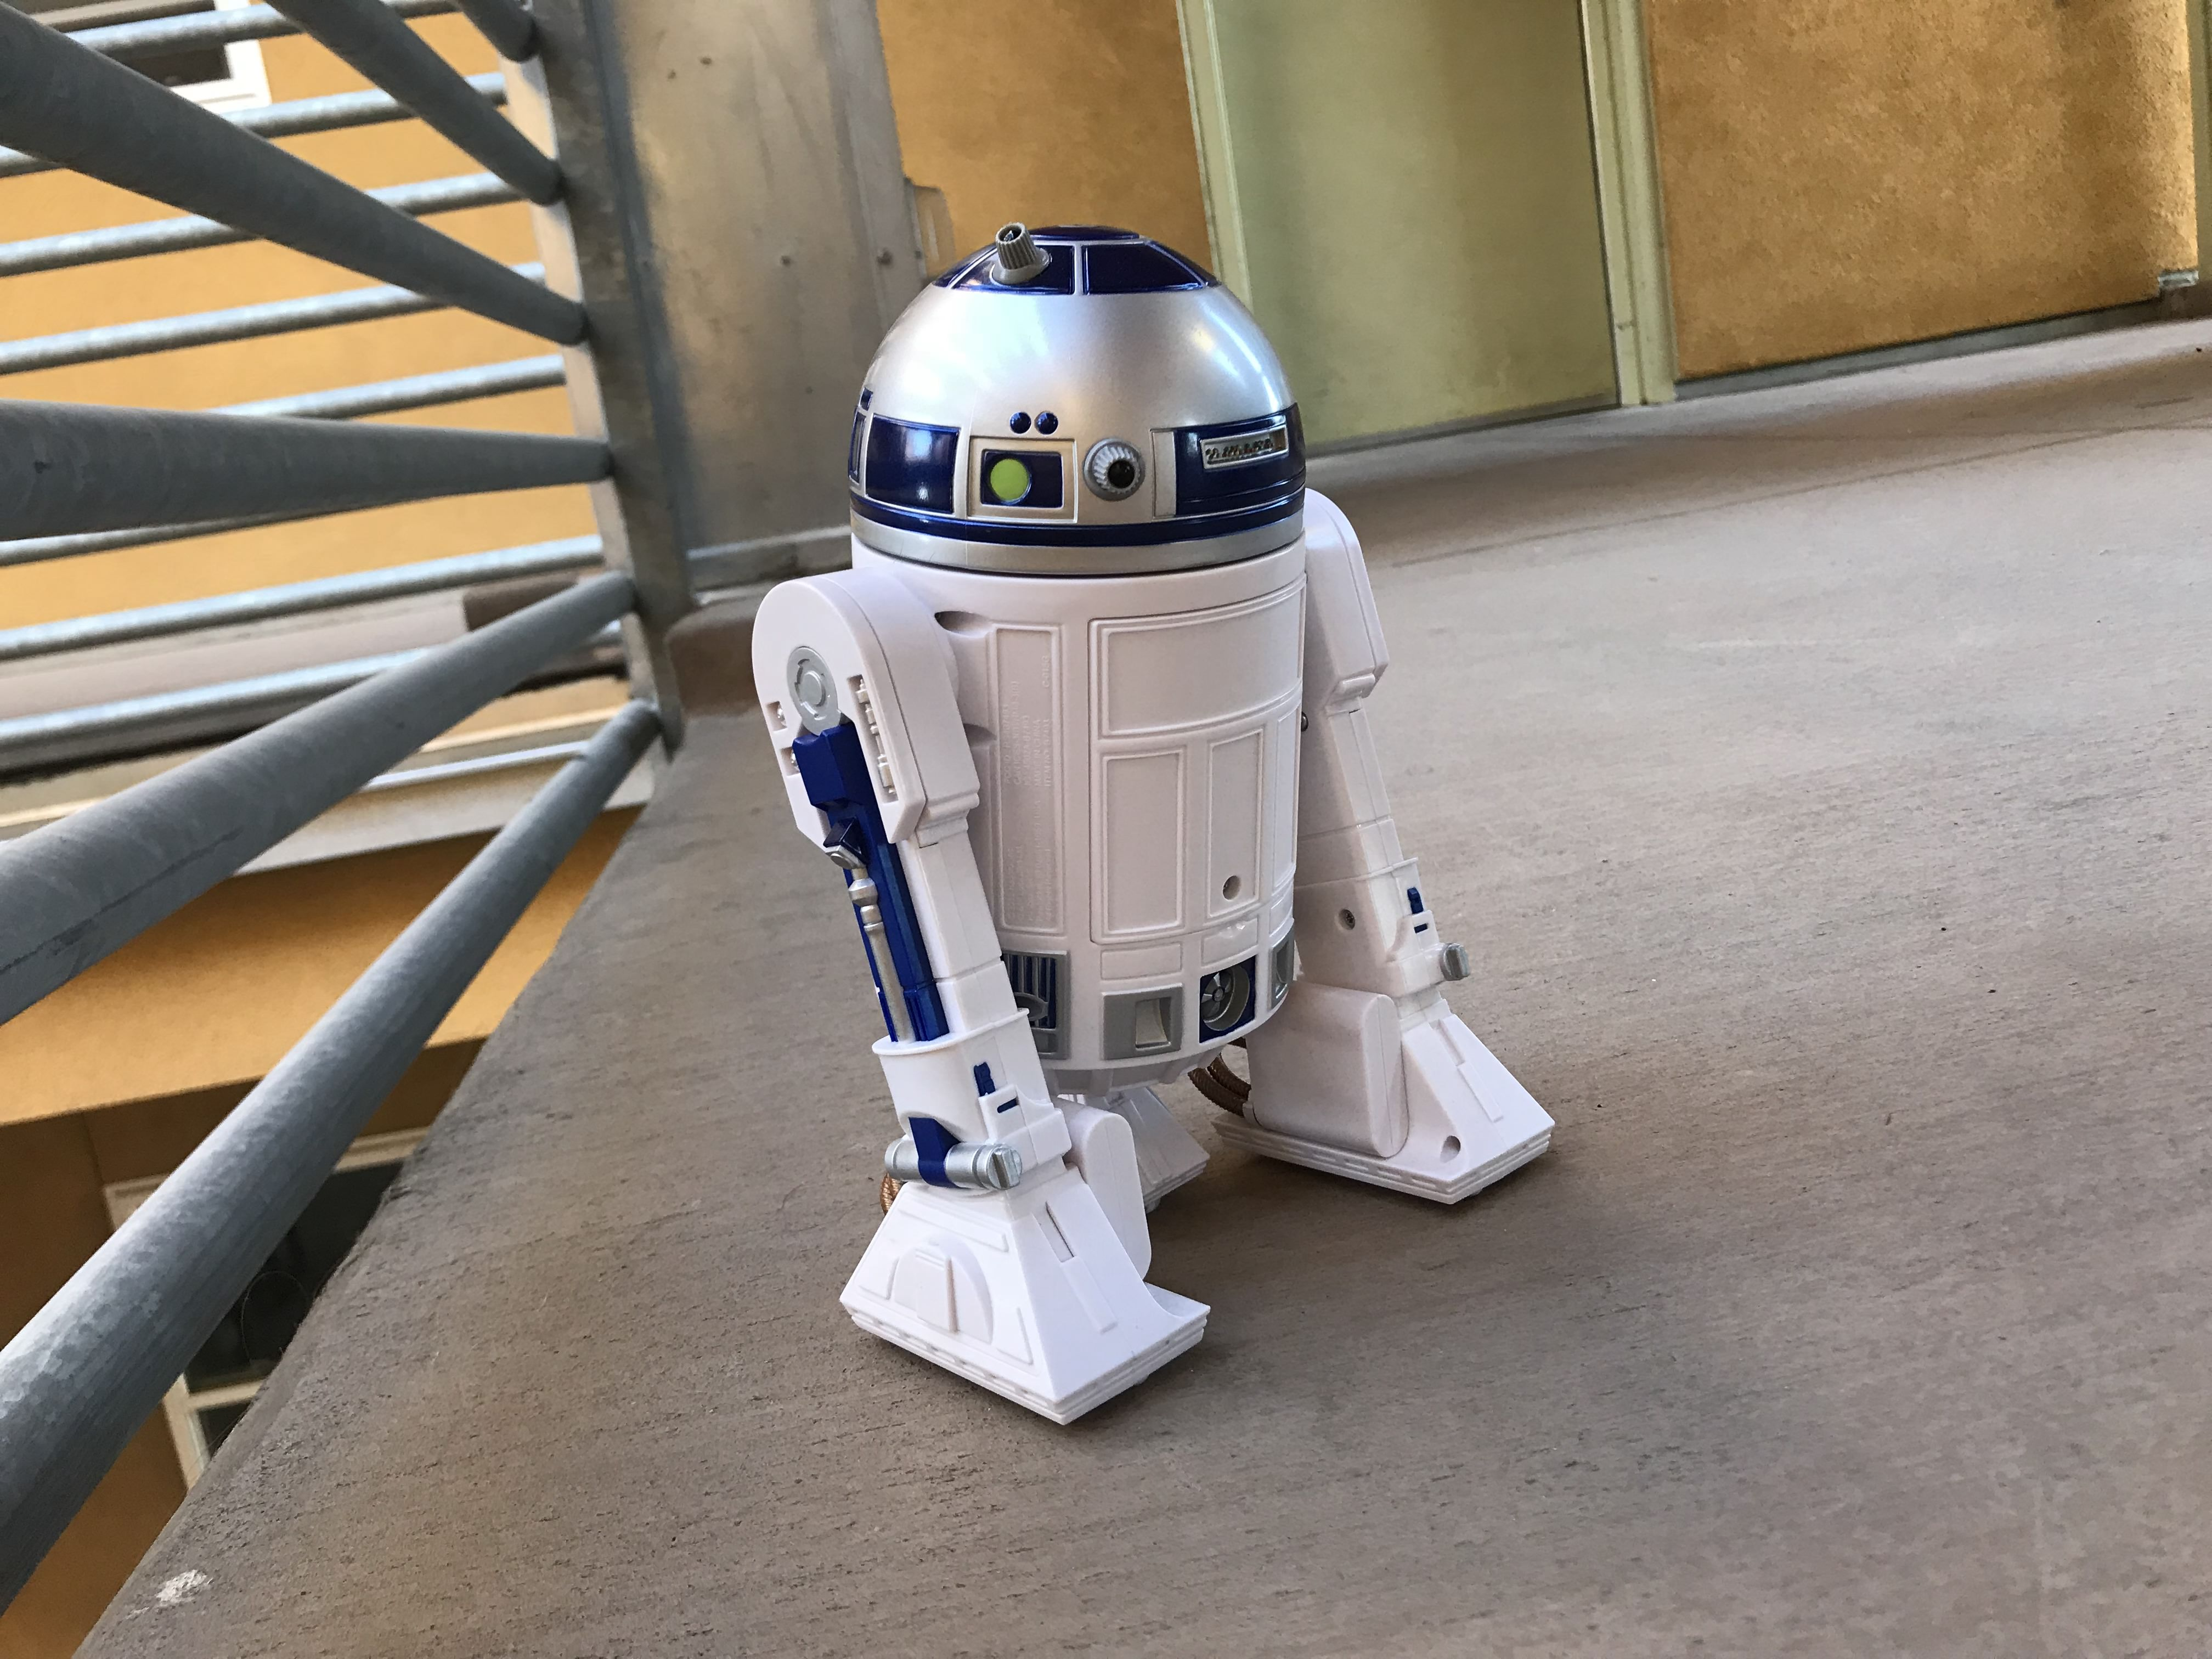r2d2: (752, 223, 1554, 1424)
